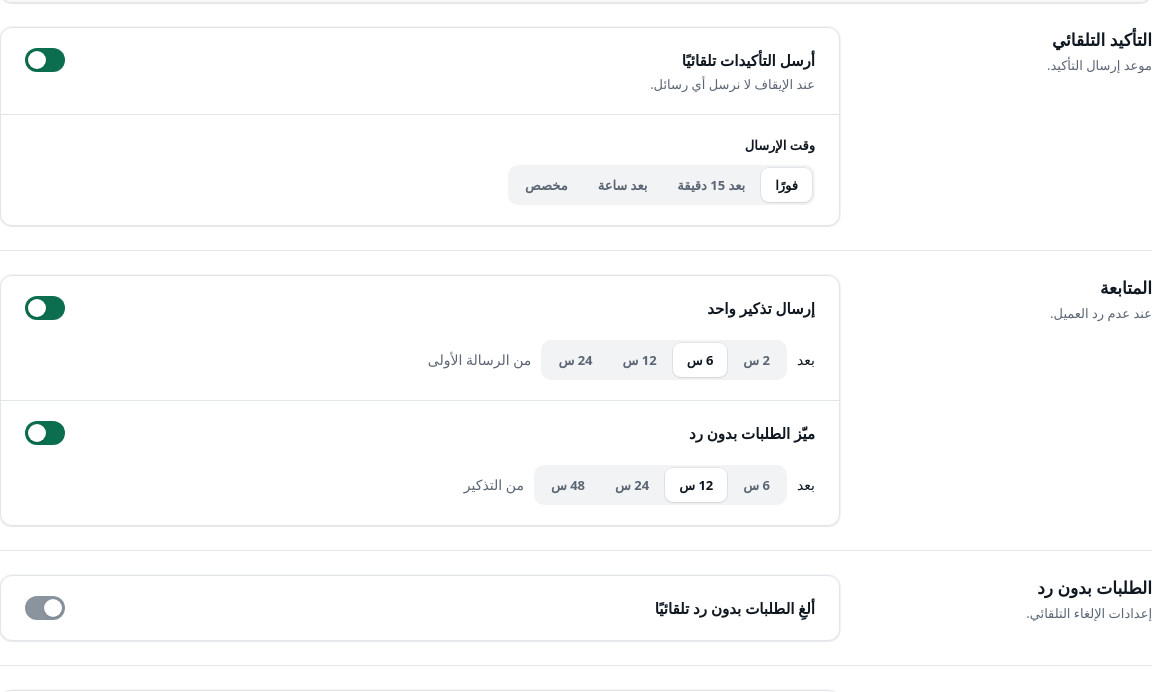
Test: standalone Timing tab › redraws the flow on every edit, before saving
(page scrolled)
Click the button "2 س" at (757, 360), box 729,343 -> 784,377
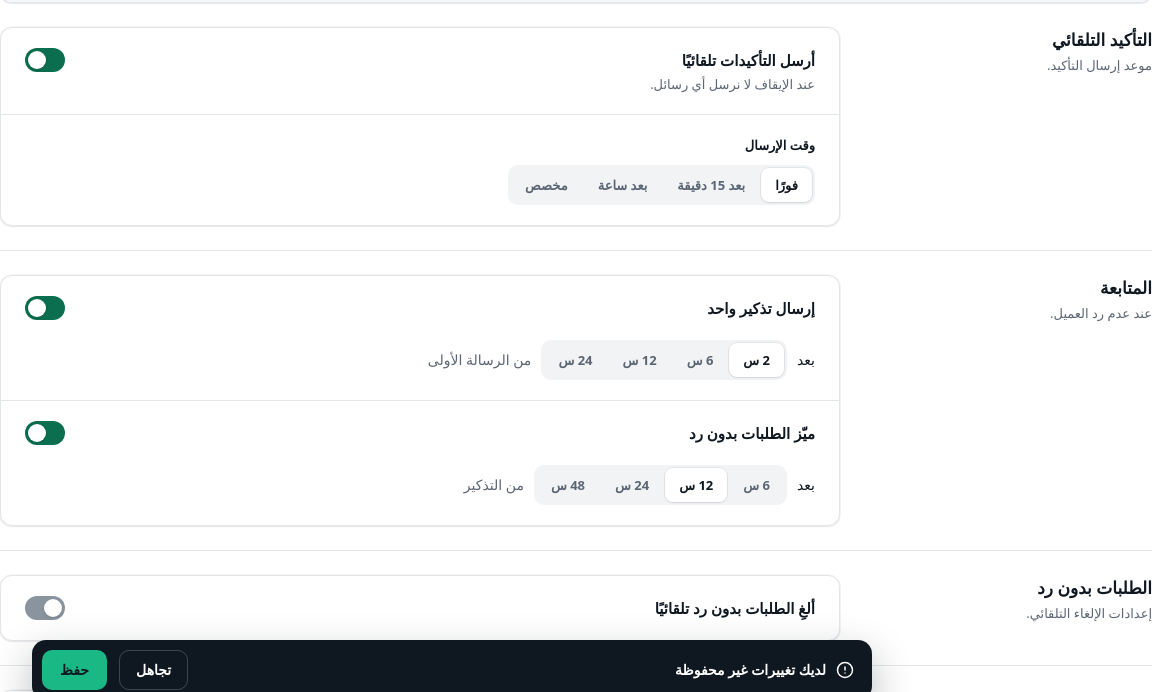
Click the switch named "إرسال تذكير واحد" in the row of "إرسال تذكير واحد" at (45, 308), box 25,296 -> 65,320
(page scrolled)
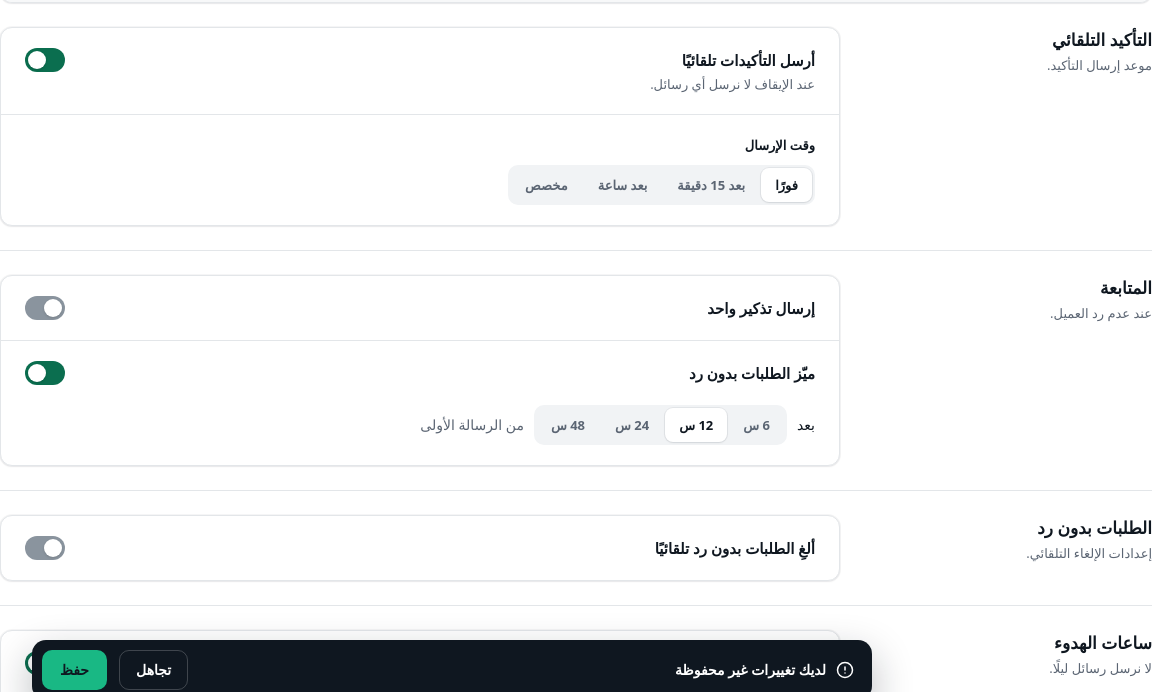
expect the text "من الرسالة الأولى" is shown: met, box 420,413 -> 524,437
expect the text "من التذكير" is gone: met
